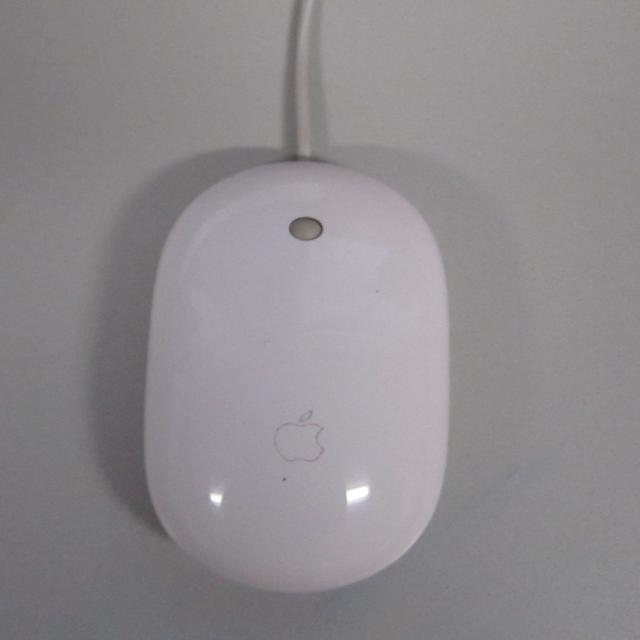Computer-mouse: (142, 154, 449, 594)
